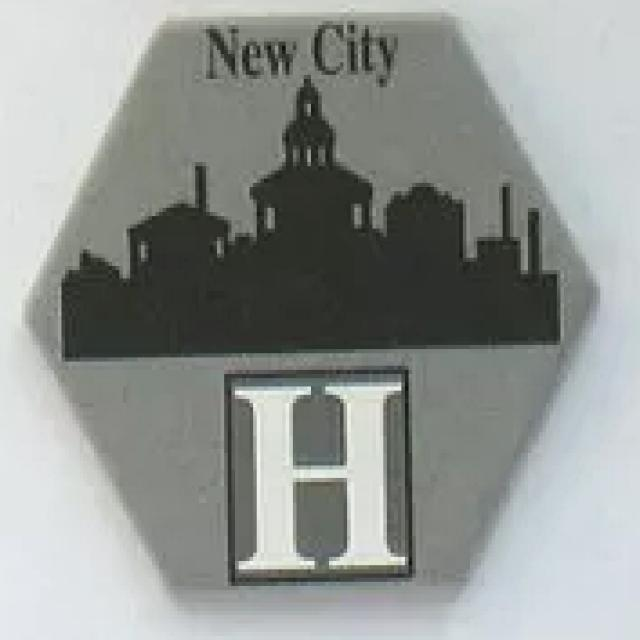23_0: (23, 13, 602, 611)
